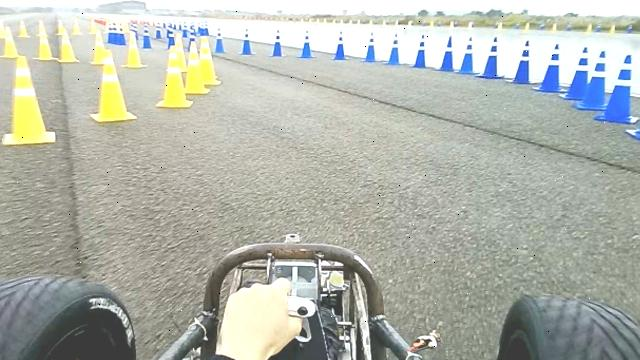blue cone: (594, 53, 639, 124), (574, 49, 610, 110), (535, 43, 567, 92), (562, 46, 590, 100), (475, 36, 505, 79), (509, 39, 535, 84), (456, 36, 479, 74), (384, 32, 405, 65), (436, 35, 455, 71), (360, 31, 382, 62), (331, 30, 350, 60), (297, 29, 316, 58), (412, 34, 428, 68), (269, 29, 285, 57), (239, 27, 255, 55)
yellow cone: (2, 55, 56, 146), (90, 56, 138, 123), (156, 66, 194, 109), (181, 42, 210, 94), (196, 34, 222, 85)
